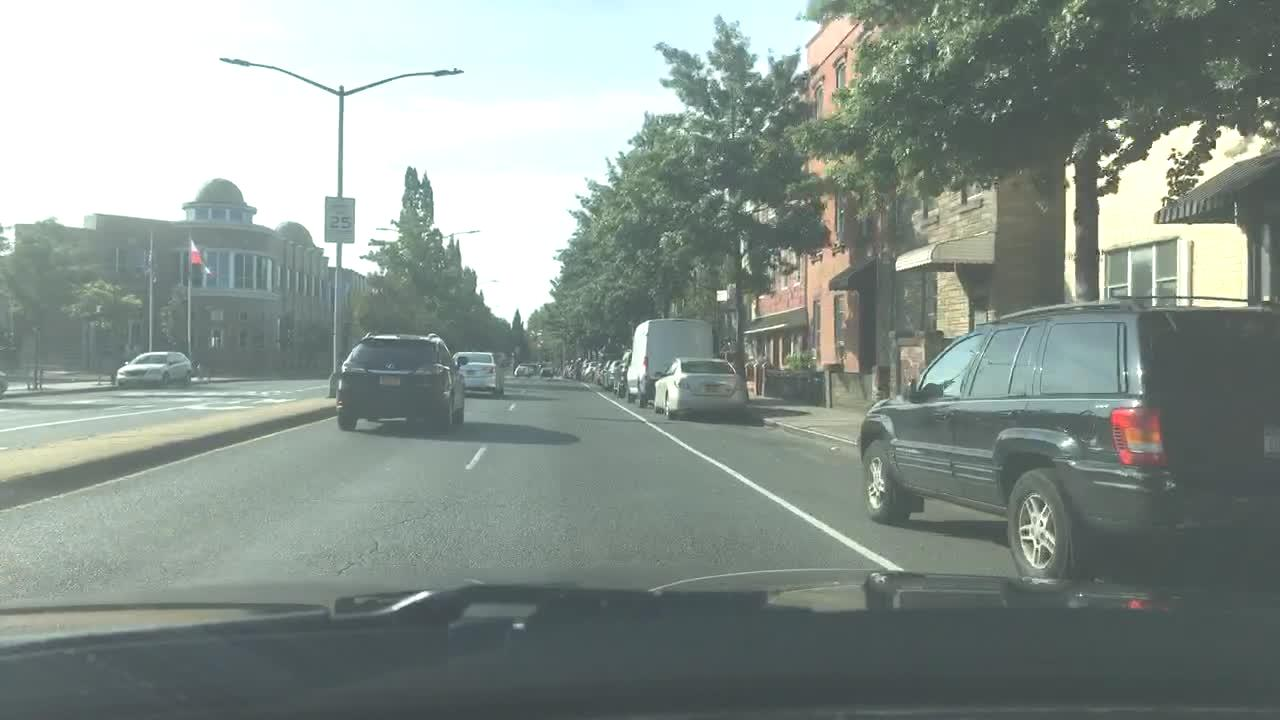lexus: (383, 359, 397, 373)
